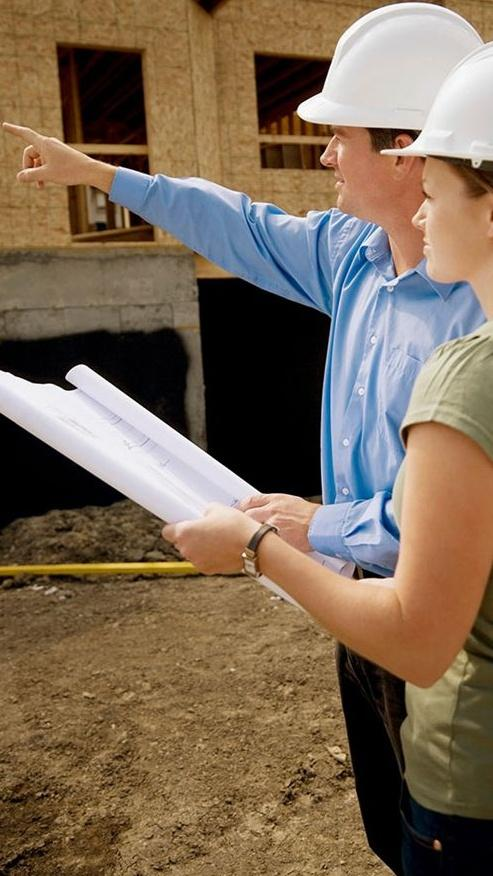hard-hat: (296, 1, 486, 131)
